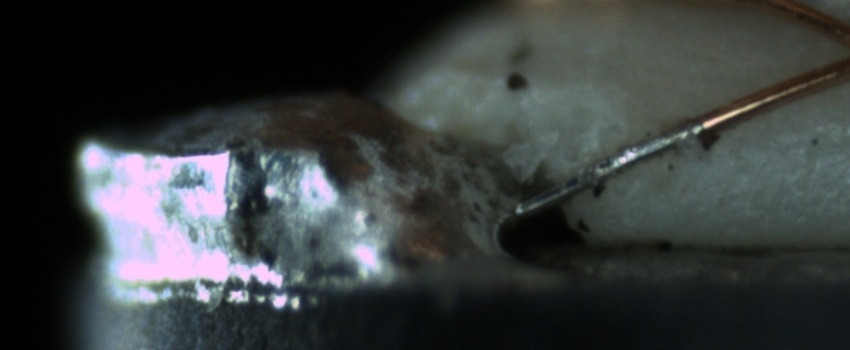CL: (828, 18, 850, 81)
TS: (509, 116, 705, 224)
